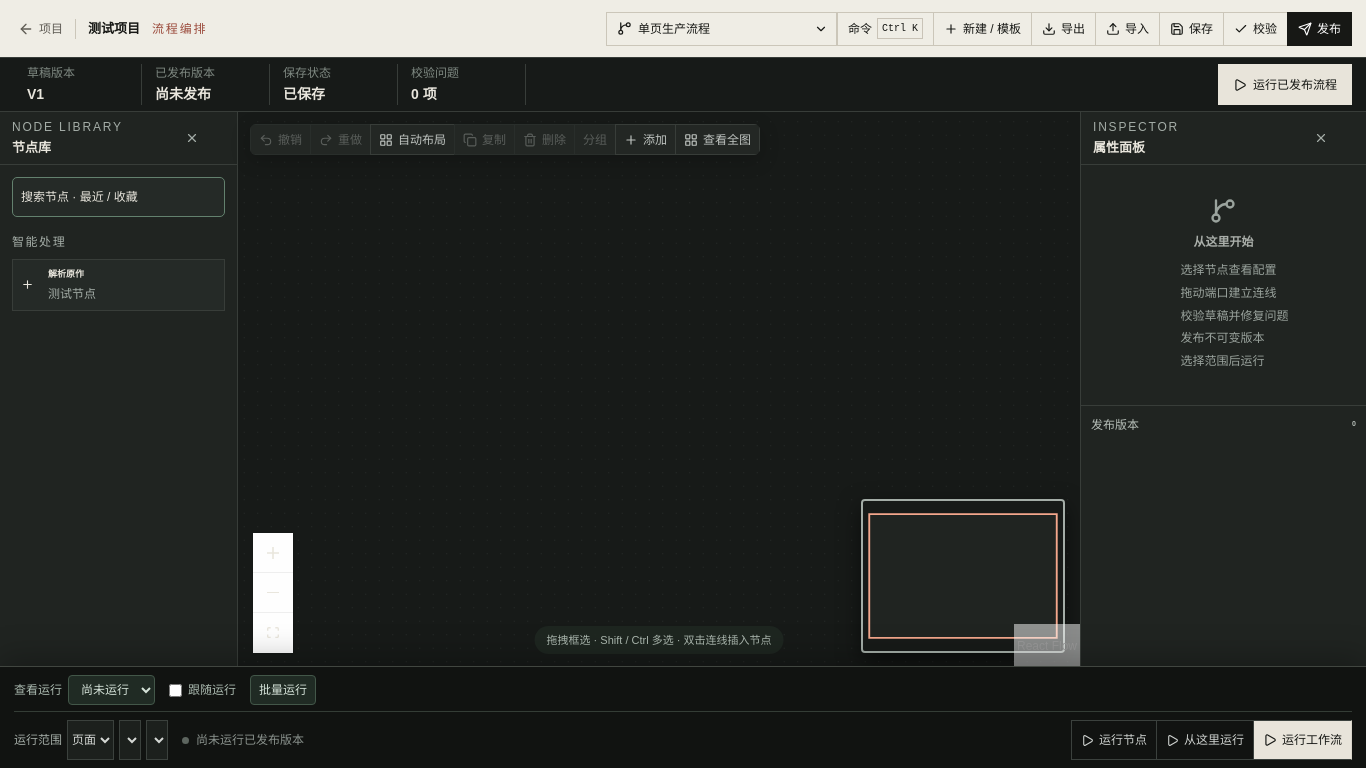
it: WorkflowStudio 草稿离开边界 › 切换工作流前会先保存当前草稿；保存失败则保持原工作流
Check: the text "流程编排" is shown, box left=152, top=20, right=207, bottom=38
Click the button "解析原作 测试节点".
click(118, 285)  # box left=12, top=259, right=225, bottom=311
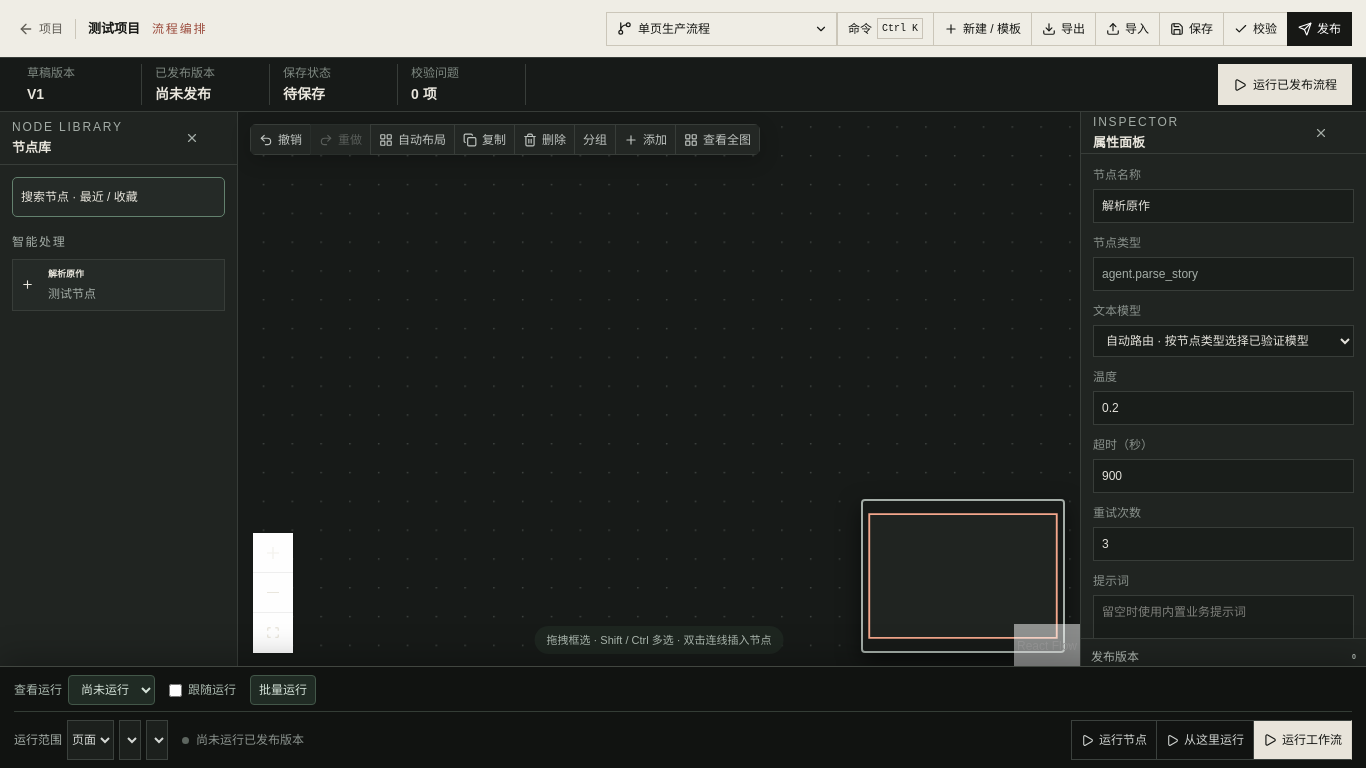
Select "整章导出流程" in the dropdown named "选择工作流" at x=723, y=28, box left=638, top=12, right=808, bottom=44
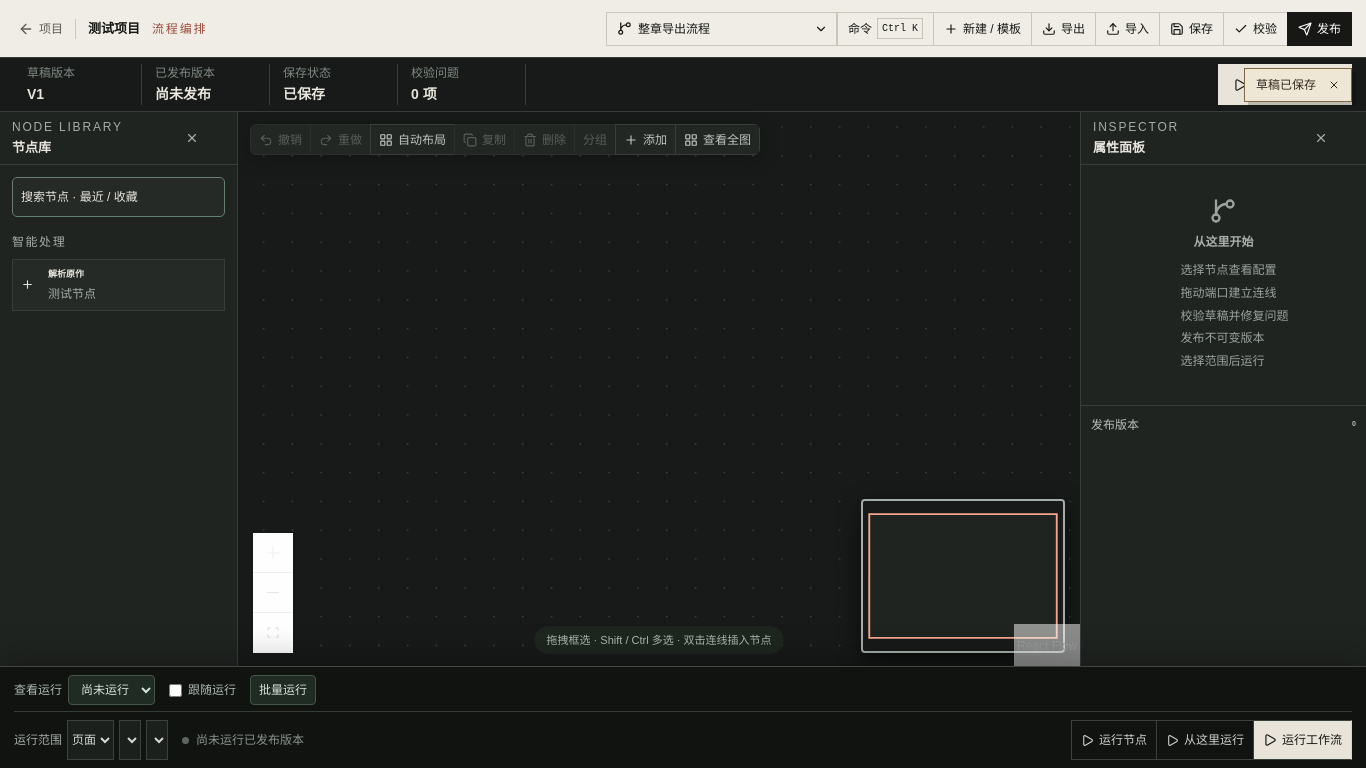
保存失败：切换被阻止，停留在原工作流并提示。
Click the button "解析原作 测试节点".
click(118, 285)  # box left=12, top=259, right=225, bottom=311
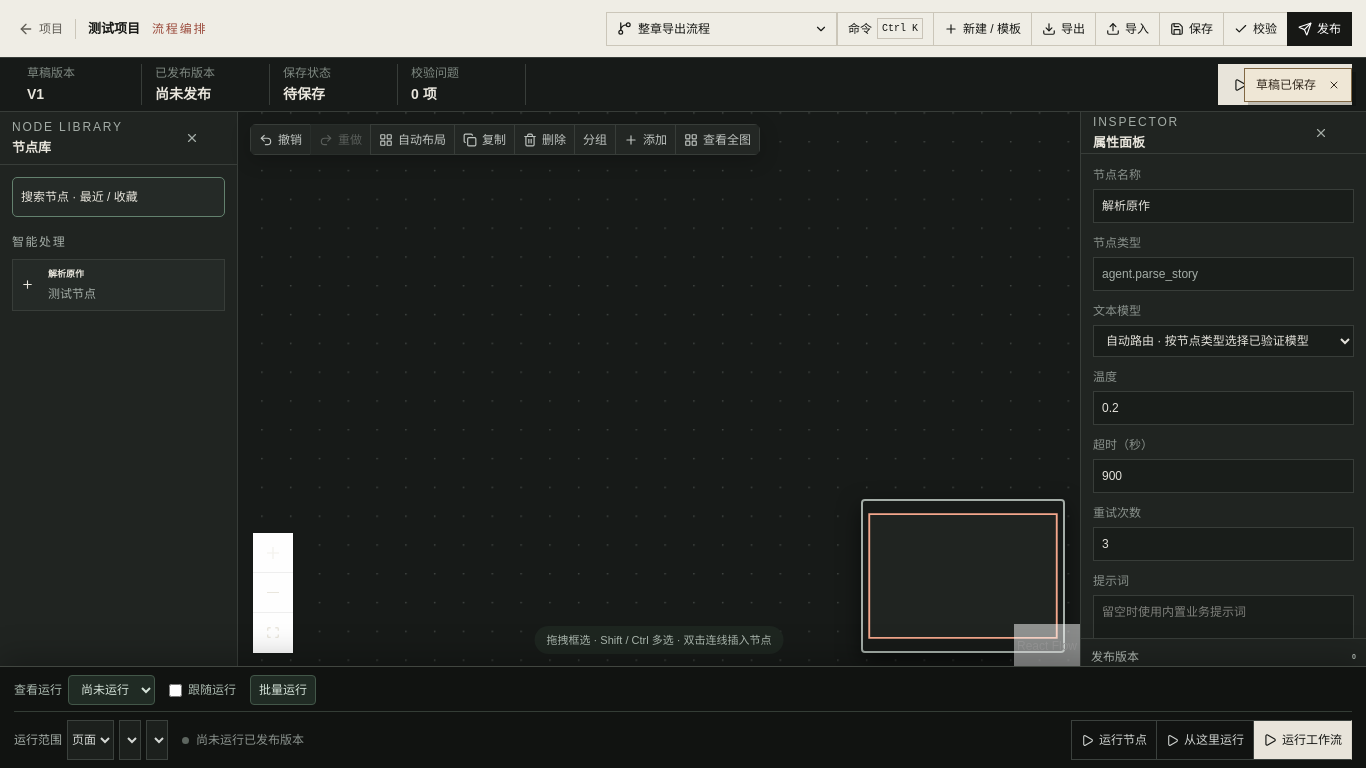
Select "单页生产流程" in the dropdown named "选择工作流" at x=723, y=28, box left=638, top=12, right=808, bottom=44
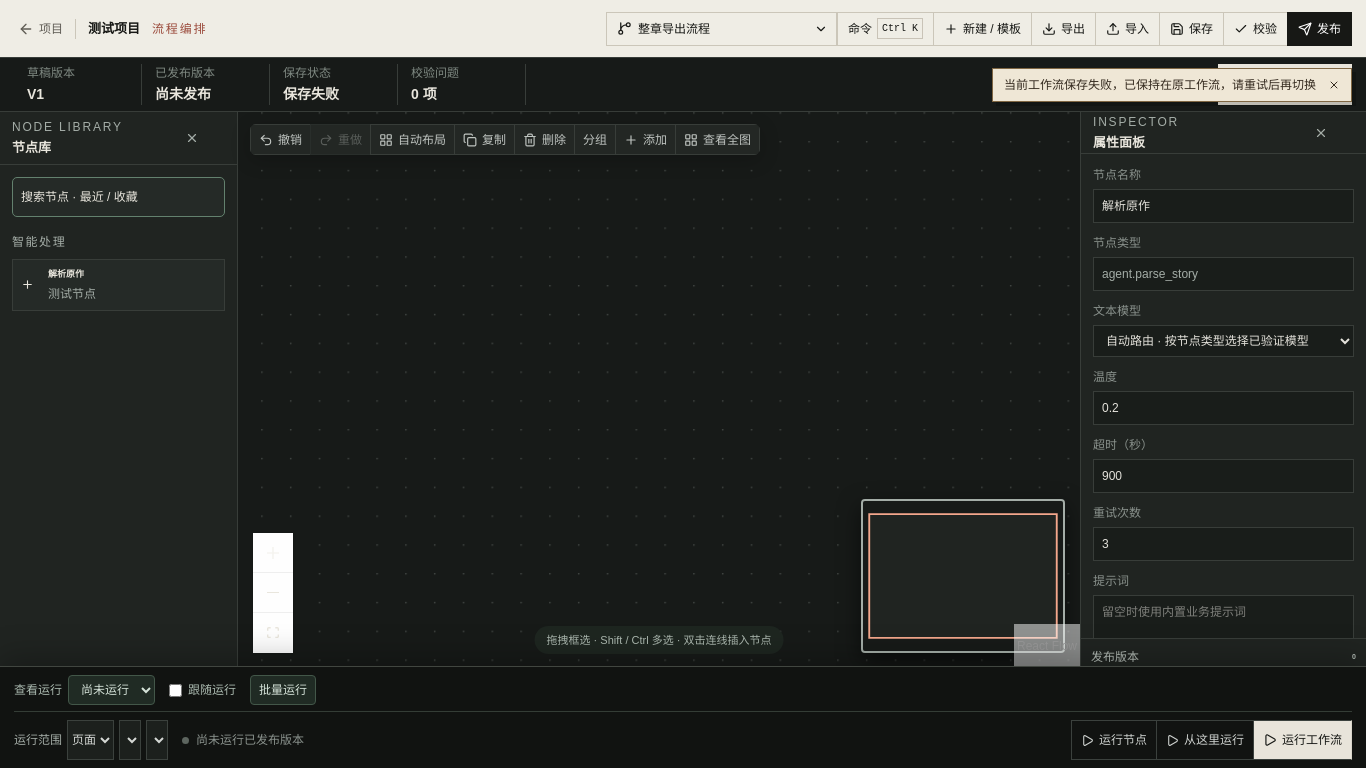
Check: the text "当前工作流保存失败，已保持在原工作流，请重试后再切换" is shown, box left=992, top=68, right=1352, bottom=102
